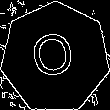O_S: (29, 28, 81, 87)
